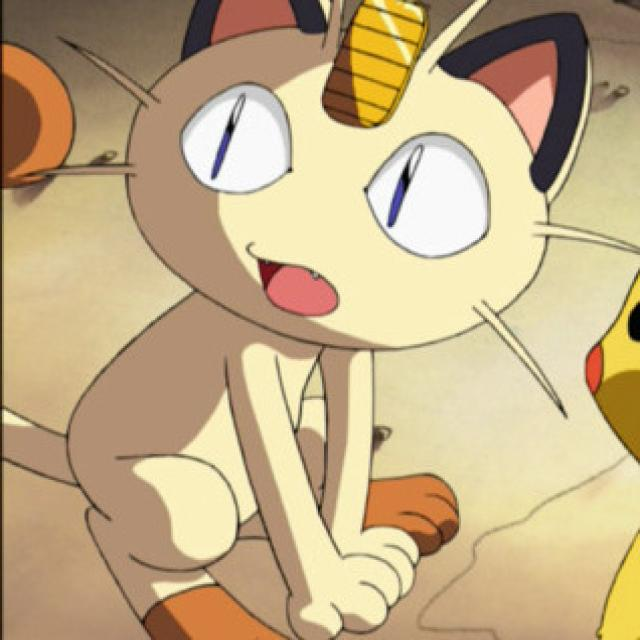Meowth: (62, 3, 593, 566)
